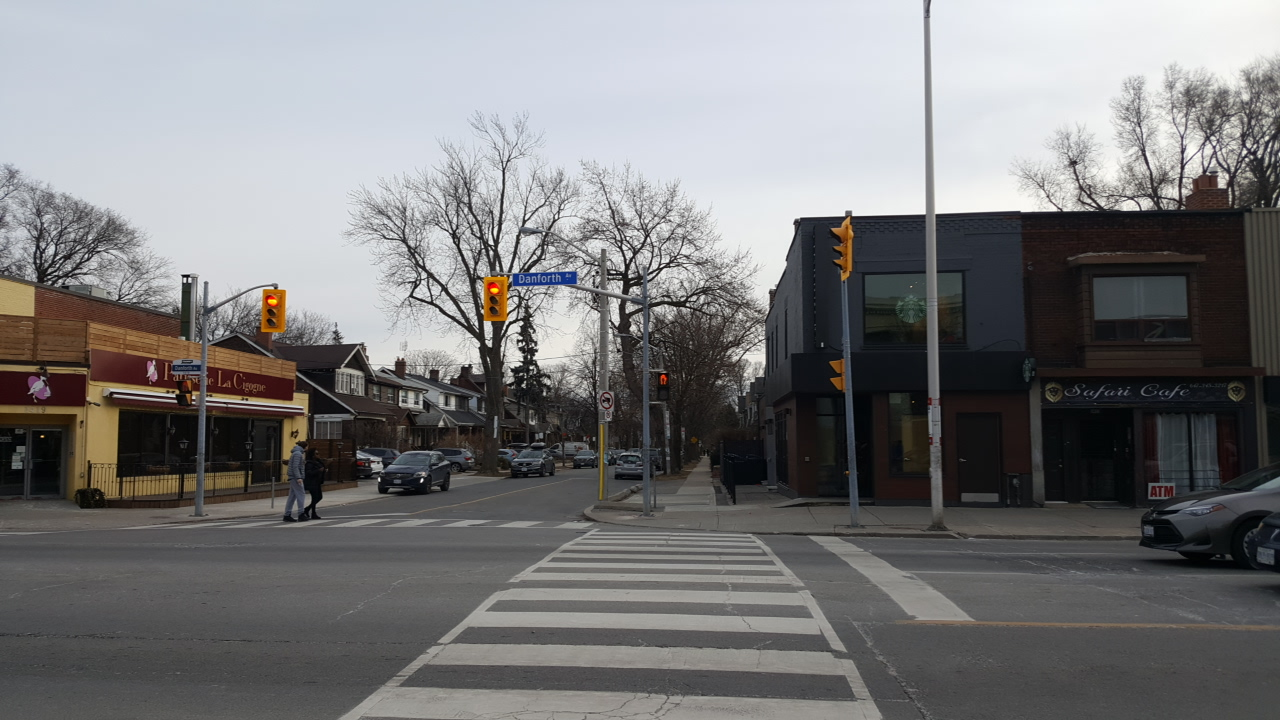light: (655, 369, 671, 402)
